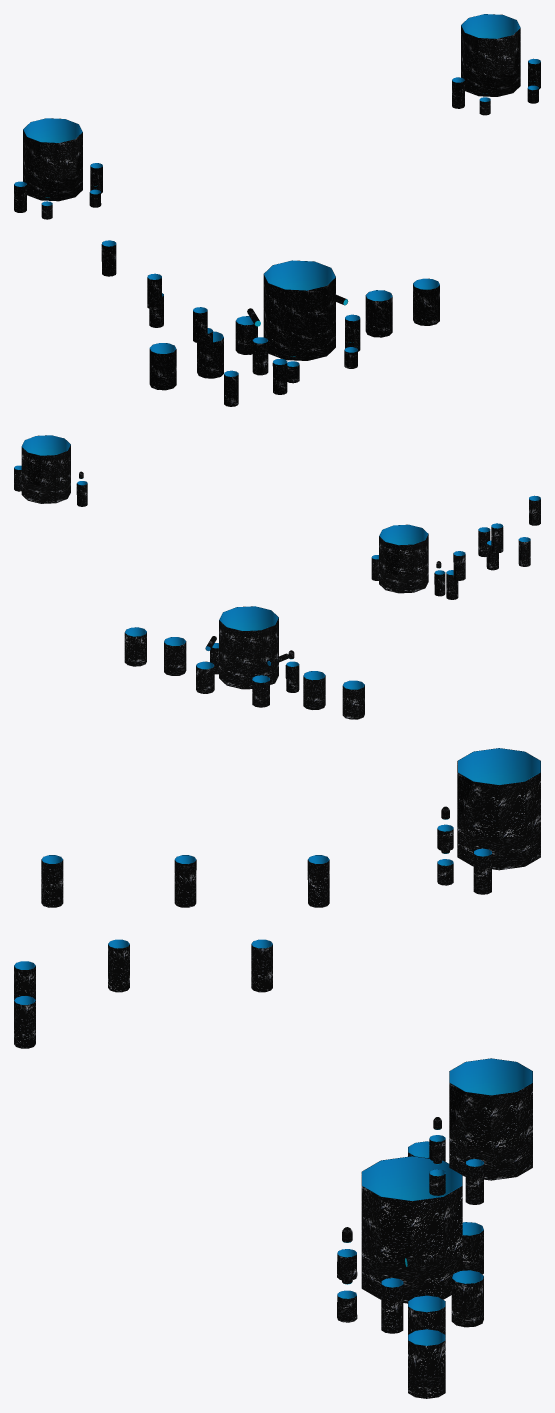
File: stg610_MotTank_21.obj
3 renders of one model, top to bottom at view 1: azimuth 30°, elevation 25°; view 2: azimuth 150°, elevation 25°; view 3: azimuth 270°, elevation 25°, orthographic. The views are drawn at different scales.
Parts seen in each view (by area): view 1: polygon24, polygon26, polygon22, polygon25, polygon23, polygon27, polygon0, polygon6, polygon2, polygon4, polygon20; view 2: polygon24, polygon22, polygon26, polygon25, polygon27, polygon23, polygon6, polygon2, polygon4, polygon0; view 3: polygon24, polygon22, polygon26, polygon25, polygon27, polygon23, polygon2, polygon12, polygon16, polygon20, polygon14, polygon18 (+2 smaller).
Boxes of the visible parts, bbox=[...] form: polygon24: bbox=[235, 260, 360, 383]; polygon26: bbox=[452, 14, 540, 115]; polygon22: bbox=[14, 118, 102, 219]; polygon25: bbox=[236, 260, 360, 366]; polygon23: bbox=[14, 118, 102, 205]; polygon27: bbox=[452, 14, 540, 101]; polygon0: bbox=[365, 290, 392, 337]; polygon6: bbox=[149, 343, 176, 390]; polygon2: bbox=[413, 278, 439, 325]; polygon4: bbox=[197, 331, 223, 378]; polygon20: bbox=[101, 241, 116, 276]; polygon24: bbox=[196, 606, 299, 707]; polygon22: bbox=[371, 524, 445, 596]; polygon26: bbox=[14, 435, 87, 506]; polygon25: bbox=[196, 606, 298, 682]; polygon27: bbox=[14, 435, 87, 485]; polygon23: bbox=[371, 524, 444, 574]; polygon6: bbox=[342, 680, 364, 719]; polygon2: bbox=[124, 627, 146, 666]; polygon4: bbox=[303, 671, 325, 709]; polygon0: bbox=[164, 637, 186, 675]; polygon24: bbox=[337, 1156, 483, 1333]; polygon22: bbox=[437, 748, 540, 894]; polygon26: bbox=[429, 1058, 532, 1204]; polygon25: bbox=[337, 1156, 483, 1298]; polygon27: bbox=[429, 1058, 532, 1176]; polygon23: bbox=[437, 748, 540, 865]; polygon2: bbox=[408, 1329, 445, 1398]; polygon12: bbox=[41, 855, 63, 907]; polygon16: bbox=[174, 855, 196, 907]; polygon20: bbox=[307, 855, 329, 907]; polygon14: bbox=[108, 943, 129, 992]; polygon18: bbox=[251, 941, 272, 992].
Bounding box in the file's own units: 765 × 360 × 457.
2 materials, 2 textured.
